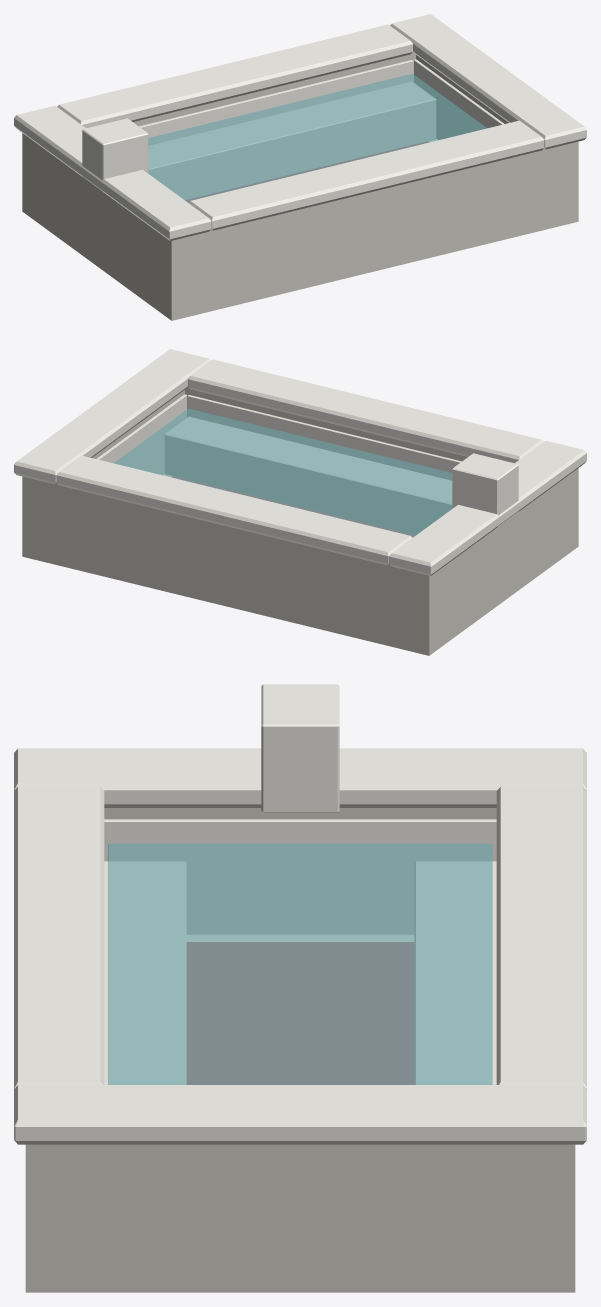
Rendered from roman-bathhouse-and-palaestra-caldarium-hot-pool-ae6f35ad__37872.glb.
The picture shows the model from 3 angles, top to bottom: view 1: azimuth 30°, elevation 25°; view 2: azimuth 150°, elevation 25°; view 3: azimuth 270°, elevation 25°; orthographic projection. The views are drawn at different scales.
Visible parts, largest first — view 1: caldarium-hot-pool; view 2: caldarium-hot-pool; view 3: caldarium-hot-pool.
Part boxes in pixels (bbox=[...]): caldarium-hot-pool: bbox=[14, 14, 586, 320]; caldarium-hot-pool: bbox=[14, 349, 586, 655]; caldarium-hot-pool: bbox=[14, 684, 586, 1292].
Size of the model in its own units: 4.52 by 1.35 by 2.92.
